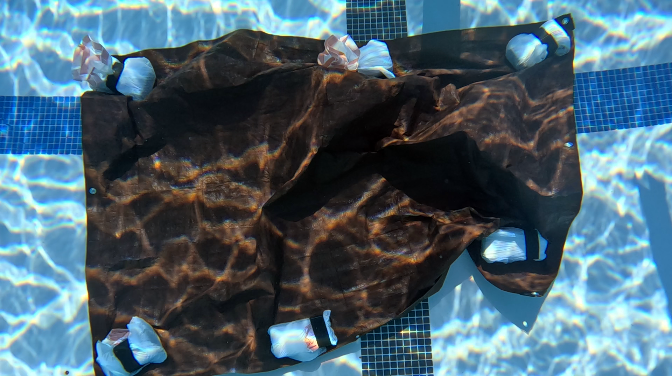sandbag: (71, 13, 583, 374)
